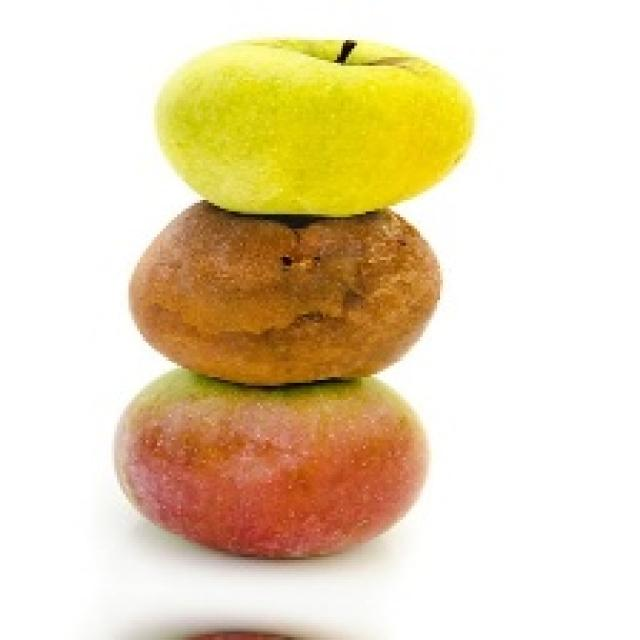rotten_apple: (133, 214, 440, 386)
